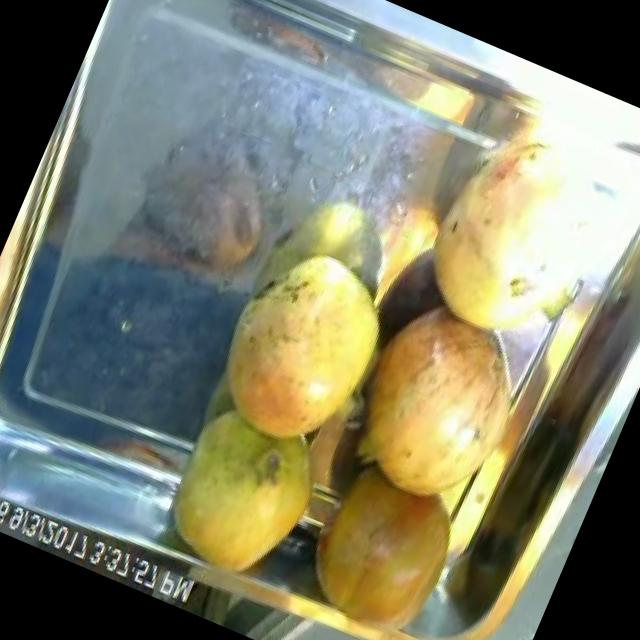fruit: (390, 92, 640, 382), (180, 209, 424, 485), (320, 274, 556, 536), (142, 393, 342, 604), (275, 448, 485, 640)
